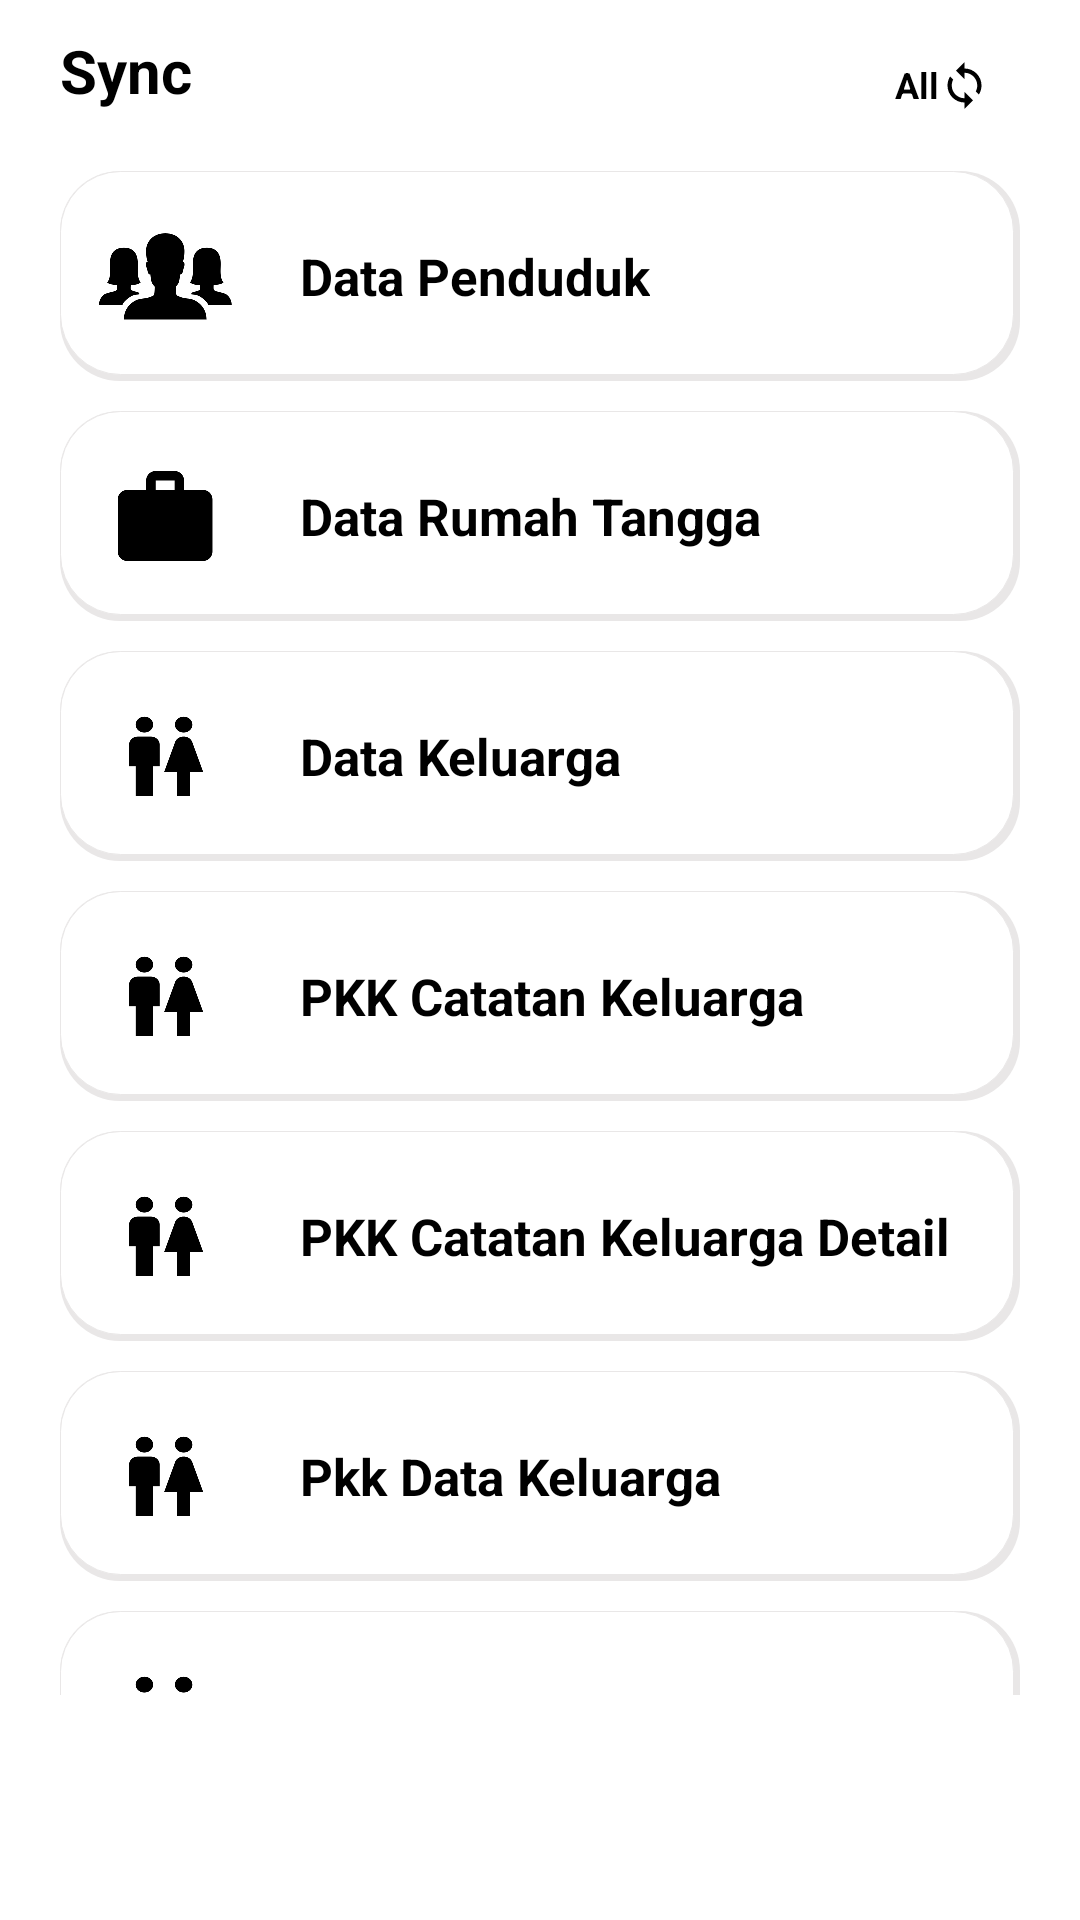

Where icons sit on this 1080x1920 app screen, as (x1, y1, x2, y2):
pekerjaan: (118, 471, 213, 561)
